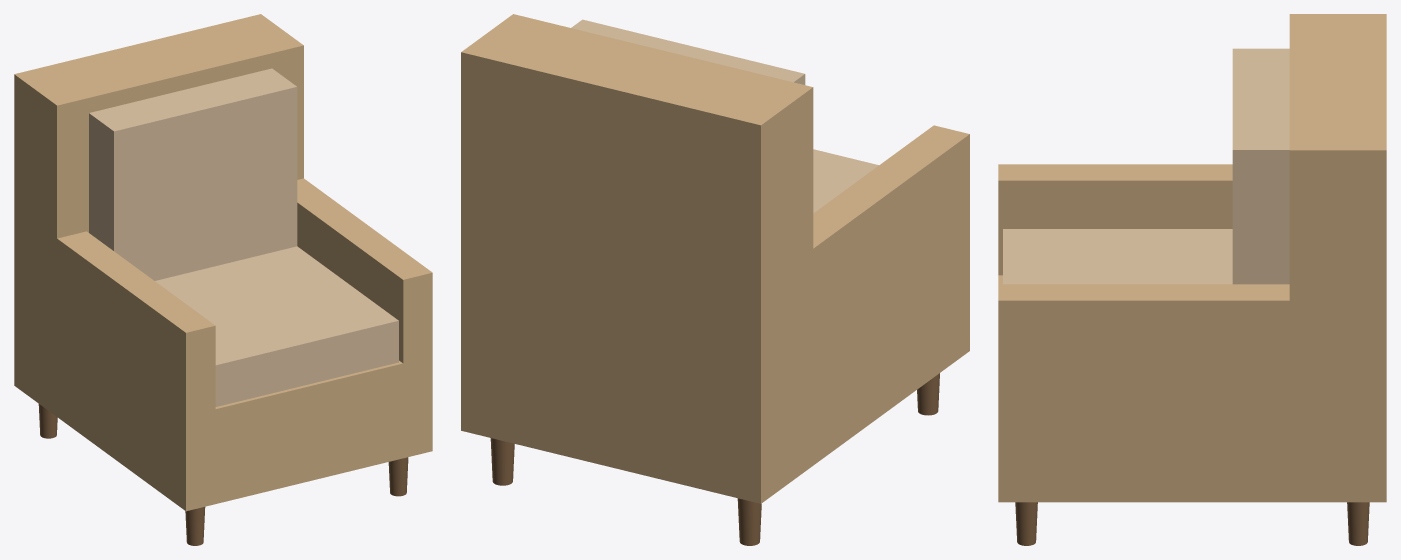
Rendered from fauteuil-poang.glb.
3 views of the same model, side by side, from view 1: azimuth 30°, elevation 25°; view 2: azimuth 150°, elevation 25°; view 3: azimuth 270°, elevation 25° (orthographic). The views are drawn at different scales.
Visible parts, largest first — view 1: produit; view 2: produit; view 3: produit.
Boxes of the visible parts, x1,y1,x2,y2 form: produit: (14, 14, 432, 545); produit: (461, 14, 969, 545); produit: (998, 14, 1386, 545).
Bounding box in the file's own units: 0.68 × 0.94 × 0.82.
